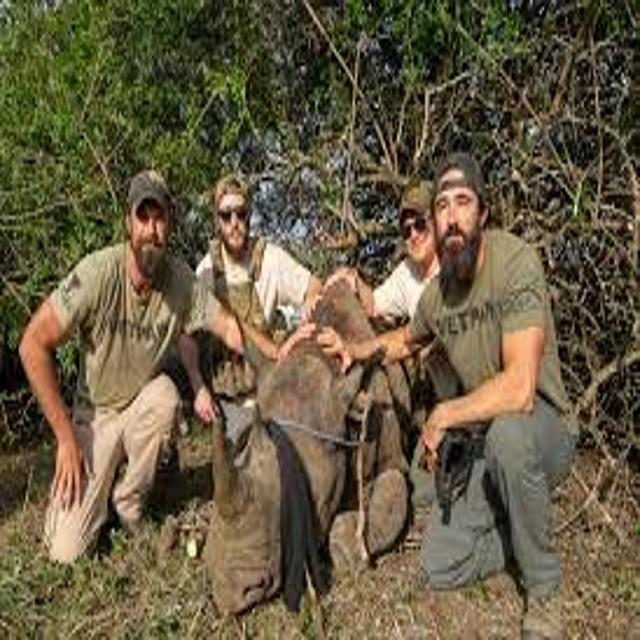poacher: (311, 110, 604, 639), (6, 147, 334, 604), (156, 140, 368, 546), (307, 136, 492, 405)
rhino: (142, 246, 493, 640)
